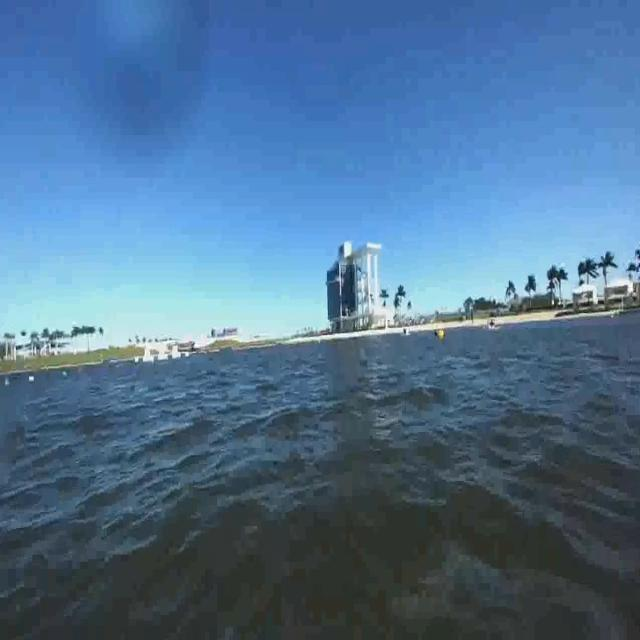yellow-buoy: (439, 328, 446, 339)
